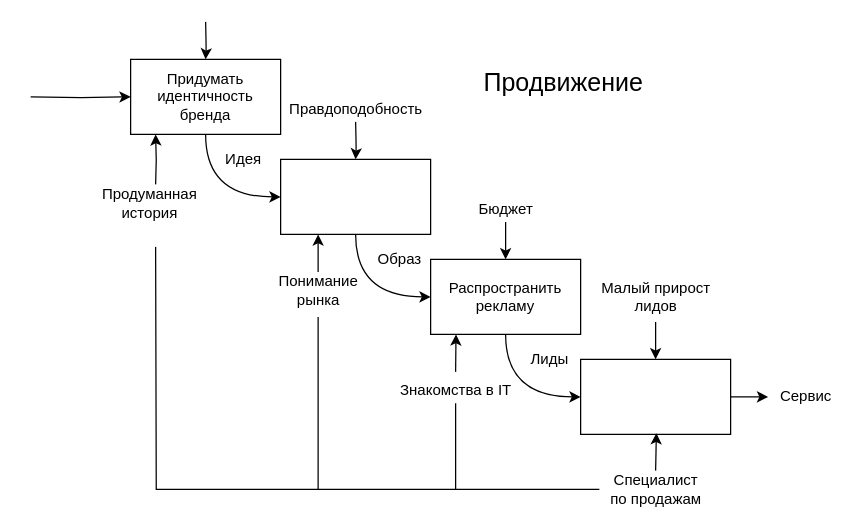
This 865x530 diagram has some shape labels left out. Each missing label, with the centre of its shape:
"Следить за аудиторией и выбрать лучшие методы рекламы" belongs at [655,396].
"Создать образ популярности" belongs at [355,196].
